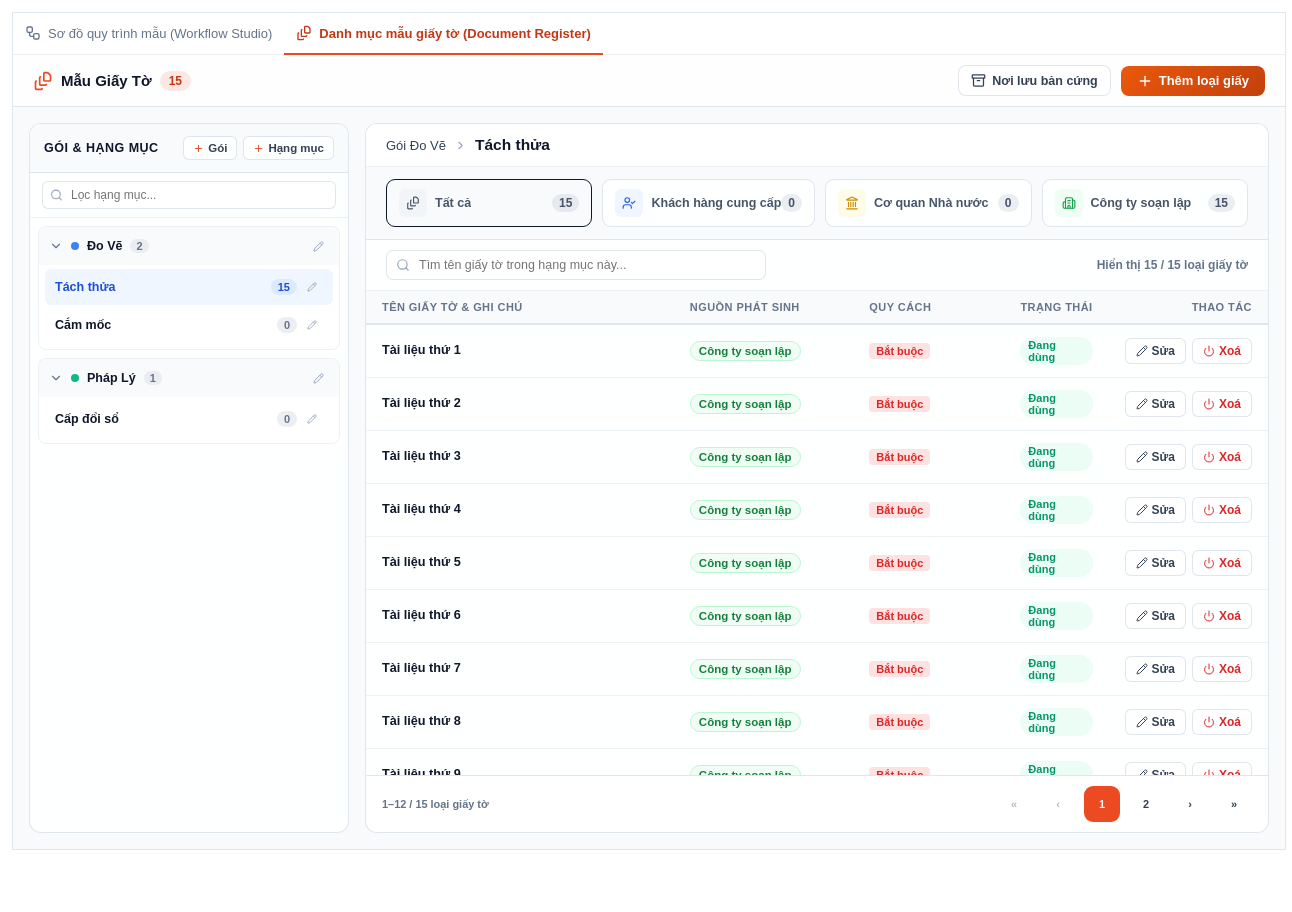
DocumentTemplateSettings — Bố cục 2 vùng Enterprise › khi có hơn 12 loại giấy tờ, phân trang phân chia đúng trang 1 và trang 2
Expected: the heading "Tách thửa" is shown, [475,136,550,154]
Expected: the text "Tài liệu thứ 1" is shown, [382,344,461,358]
// Chuyển sang trang 2
Click the button named "Trang 2" at (1146, 804), box [1128,786,1164,822]
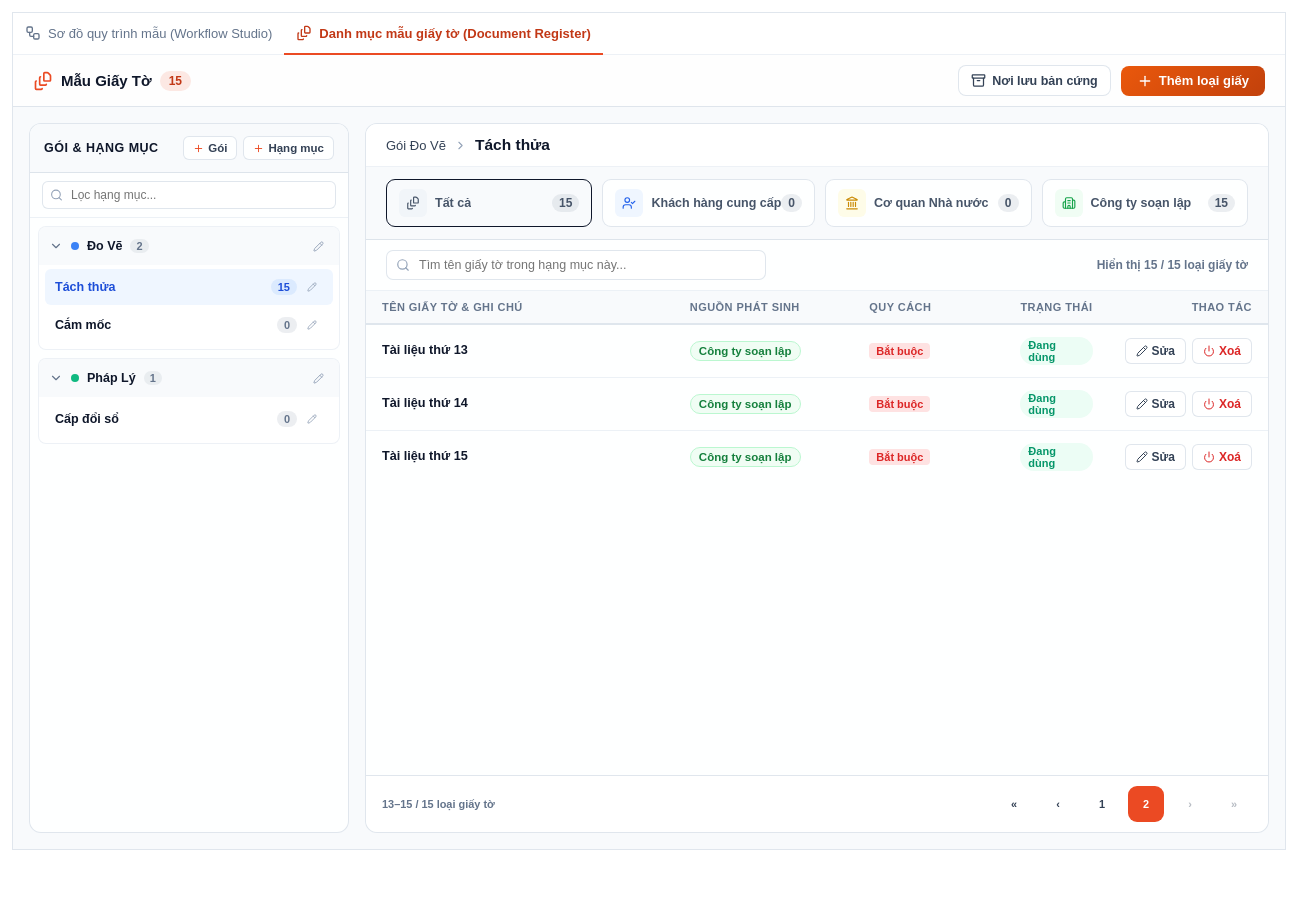
Result: the text "Tài liệu thứ 13" is shown at [382,344,468,358]
Result: the text "Tài liệu thứ 15" is shown at [382,450,468,464]
Result: the footer with class "contract-server-pagination" shows "13–15 / 15 loại giấy tờ" at [382,798,495,810]
